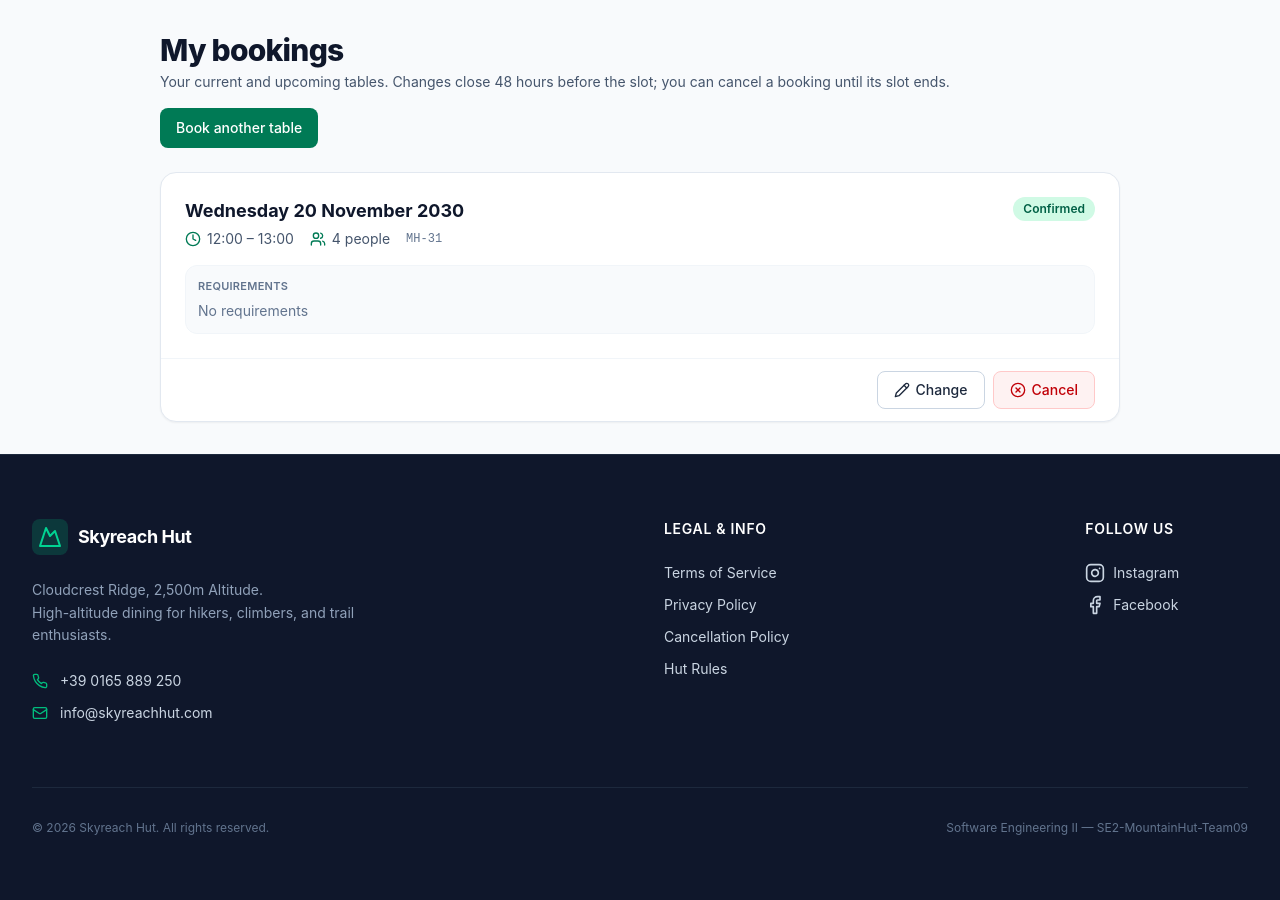
MH-08 cancel a booking – hiker (My bookings) › asks to log in again when the API answers 401
Click the button with aria-label "Cancel booking MH-": coordinates (1044, 390) [992,370,1095,408]
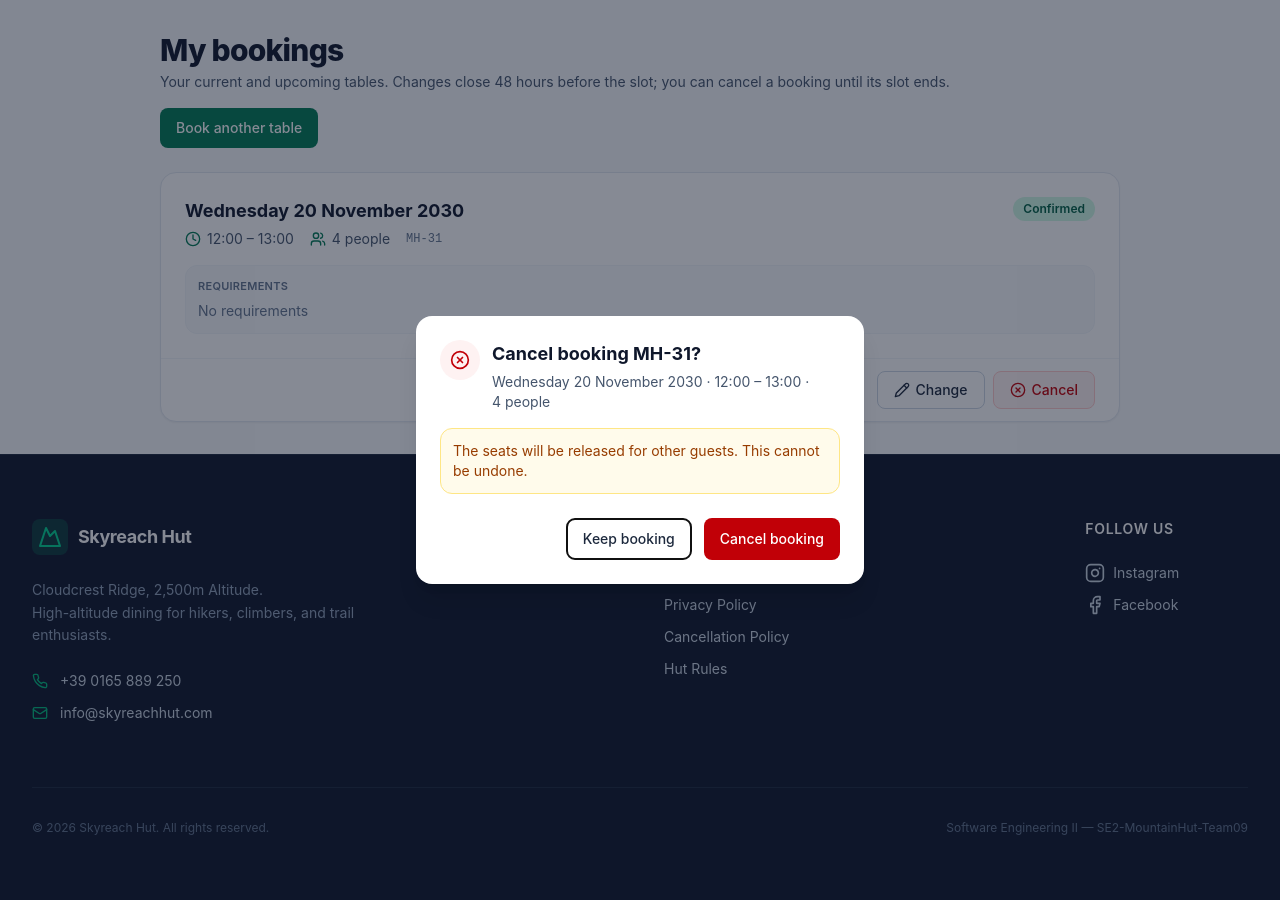
Click the button "Cancel booking": coordinates (772, 539) [704,518,840,560]
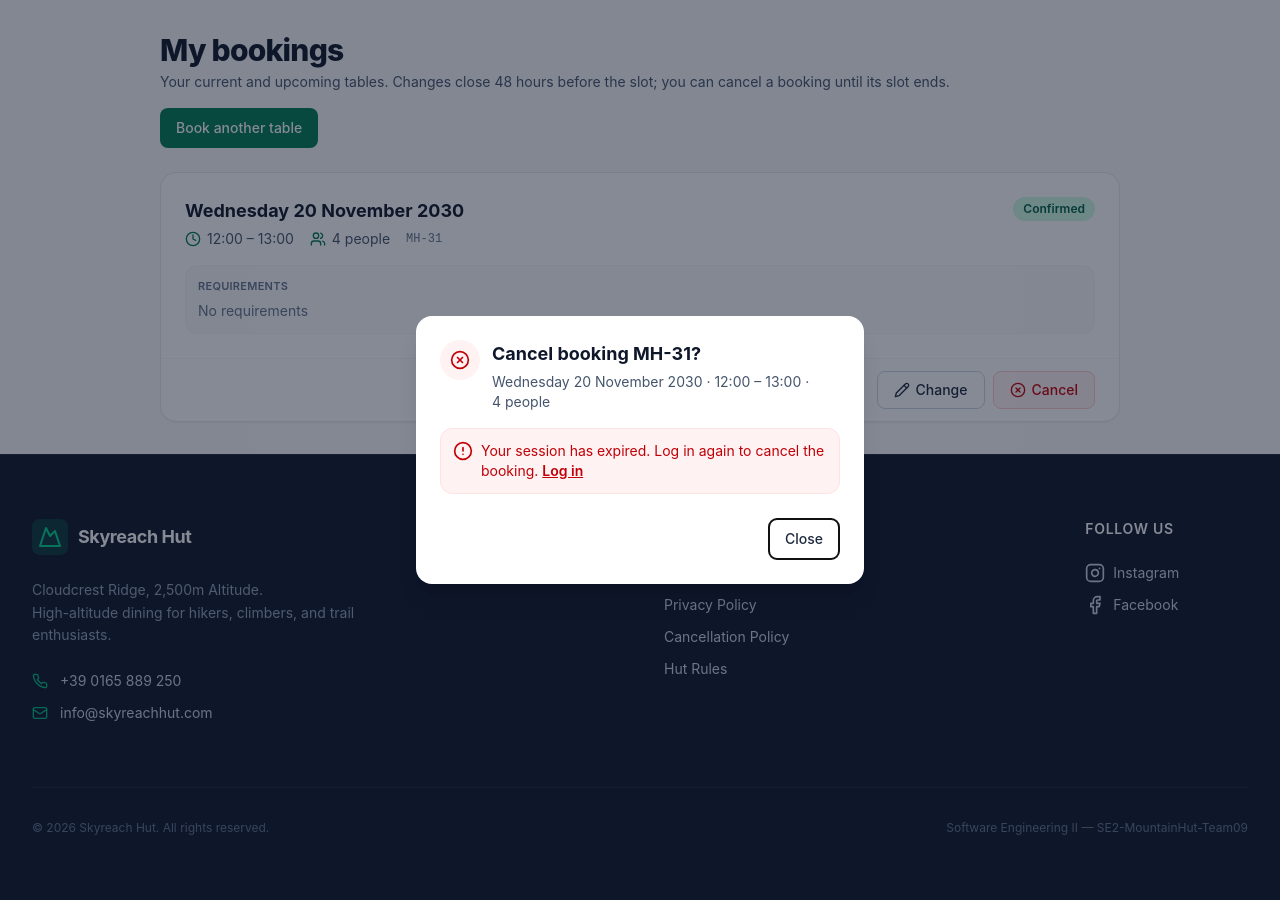
Now the message shows "Your session has expired. Log in again to cancel the booking.", box [481,442,824,479]
Now the link "Log in" is shown, box [542,462,583,479]
